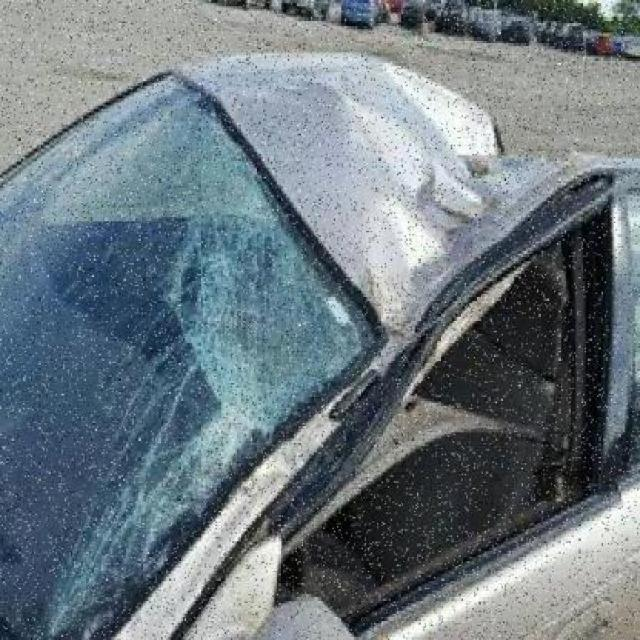Front-Windscreen-Damage: (0, 82, 211, 625)
roof-dent: (229, 72, 583, 280)
